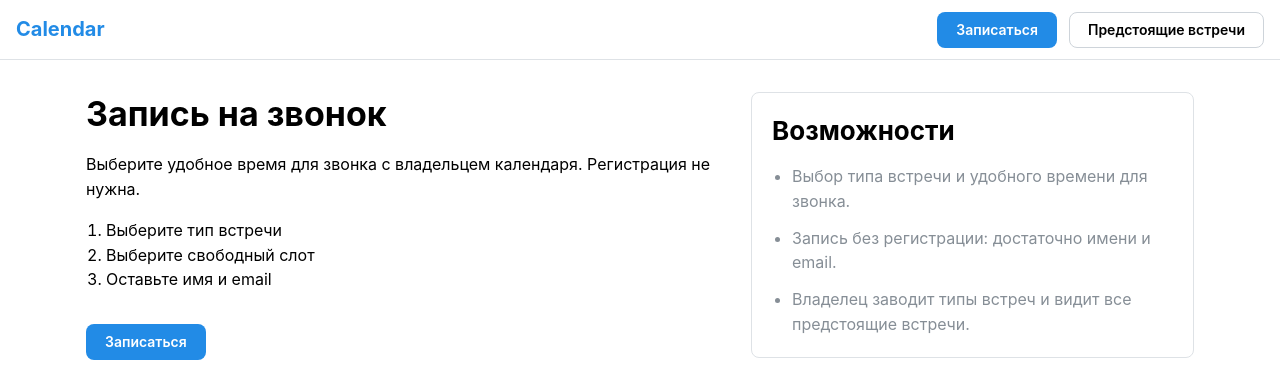
Test case: главная страница › кнопка «Записаться» ведёт на страницу записи
The image size is (1280, 377).
What coordinates should you click on to do the following:
click the link "Записаться" below "Оставьте имя и email"
I would click on:
 (146, 342)
Its box is [86,324,206,360].
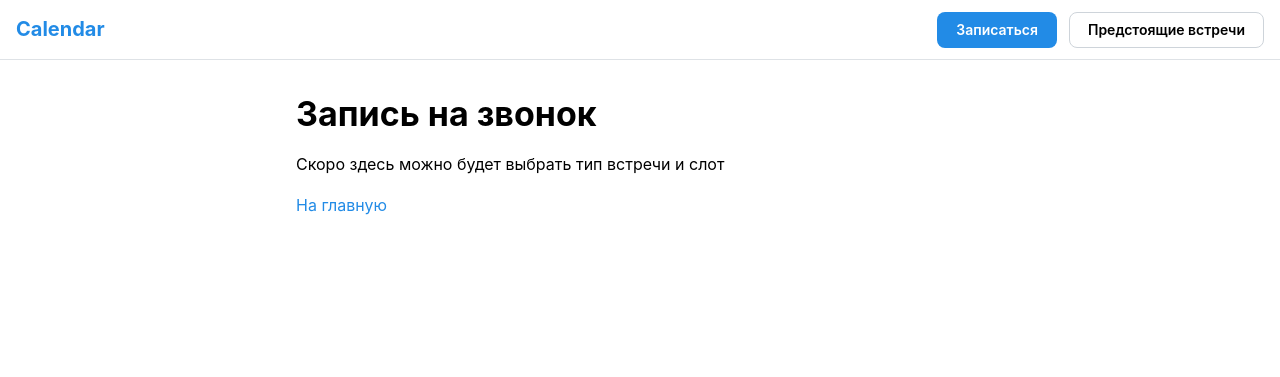
Expected: the heading "Запись на звонок" is shown, [296,93,597,134]
Expected: the text "Скоро здесь можно будет выбрать тип встречи и слот" is shown, [296,154,724,174]
